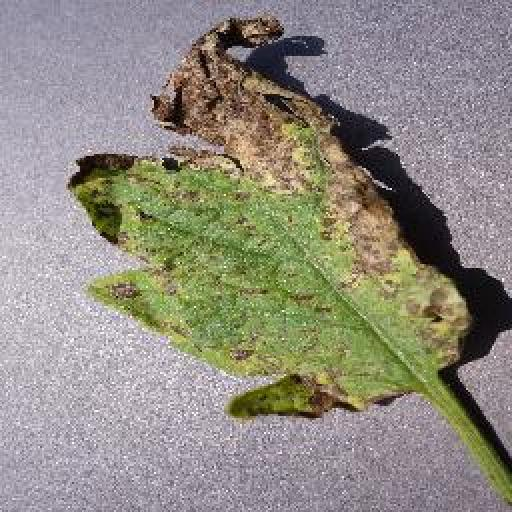disease_tomato: (67, 15, 472, 417)
